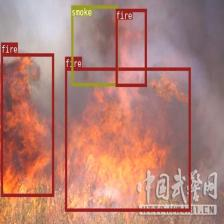fire: (65, 67, 190, 211), (1, 53, 54, 196), (115, 9, 146, 86)
smoke: (71, 5, 117, 85)
